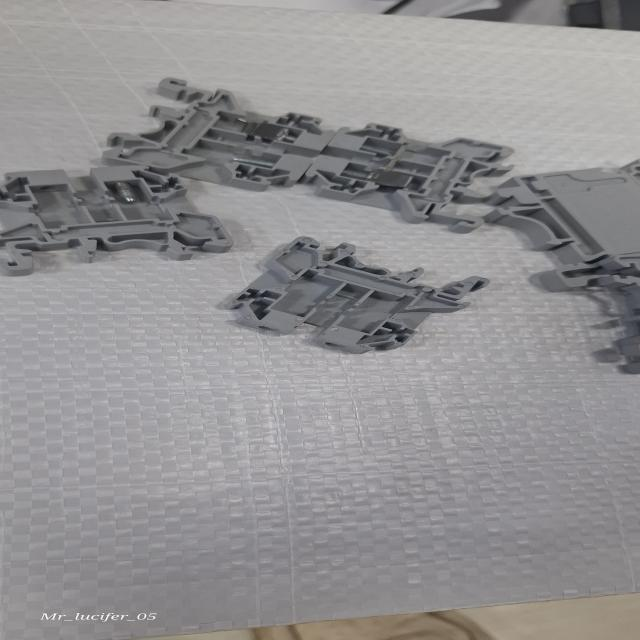Reject: (222, 222, 493, 362), (108, 65, 336, 197), (306, 104, 537, 233), (0, 159, 238, 279)
